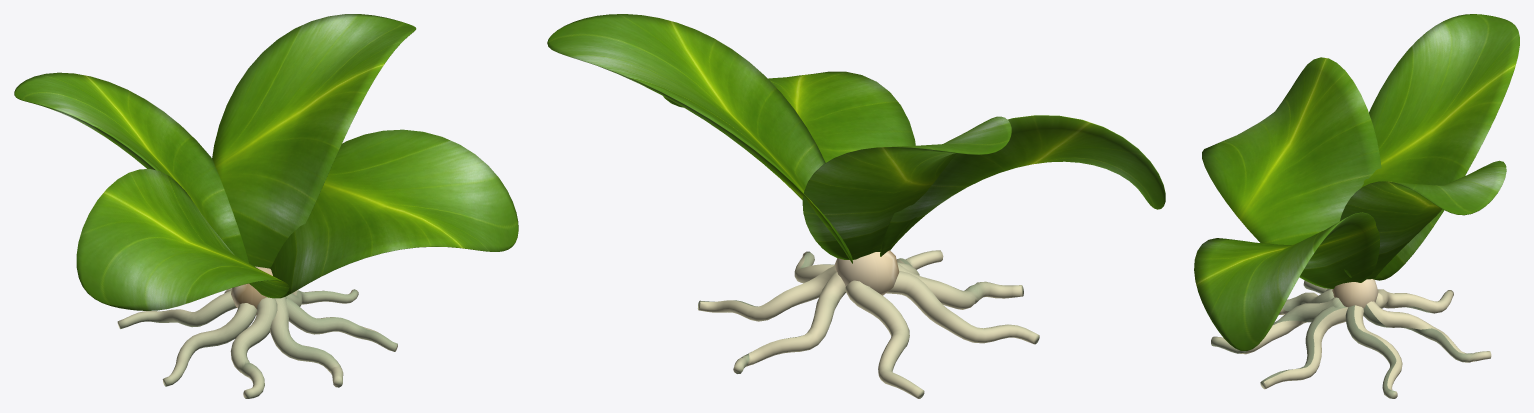
Rendered from NP_Orchid_Young.fbx.
3 renders of one model, left to right at view 1: azimuth 30°, elevation 25°; view 2: azimuth 150°, elevation 25°; view 3: azimuth 270°, elevation 25°, orthographic. The views are drawn at different scales.
Parts seen in each view (by area): view 1: NP_Orchid_Young; view 2: NP_Orchid_Young; view 3: NP_Orchid_Young.
Part boxes in pixels (x1,y1,x2,y2): NP_Orchid_Young: (14,14,518,398); NP_Orchid_Young: (547,14,1165,398); NP_Orchid_Young: (1194,14,1519,398).
Size of the model in its own units: 59.35 by 32.25 by 38.96.
